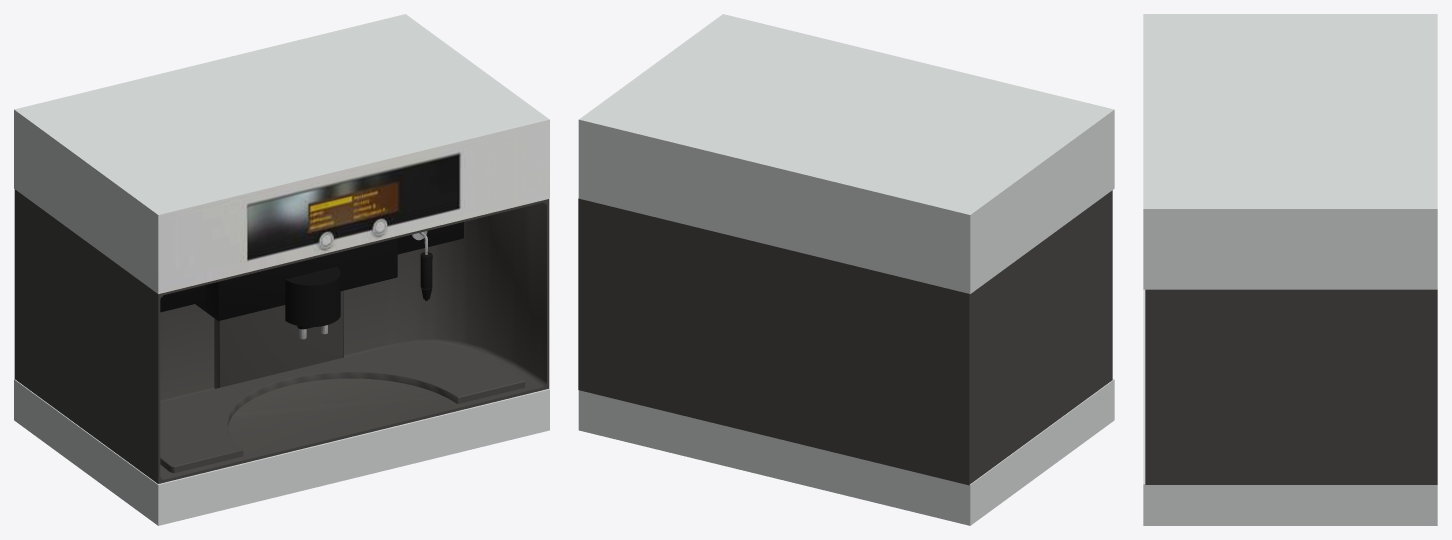
Rendered from Coffee machine.FBX.
The picture shows the model from 3 angles, left to right: view 1: azimuth 30°, elevation 25°; view 2: azimuth 150°, elevation 25°; view 3: azimuth 270°, elevation 25°; orthographic projection. The views are drawn at different scales.
Parts seen in each view (by area): view 1: coffee machine; view 2: coffee machine; view 3: coffee machine.
Part boxes in pixels (x1,y1,x2,y2): coffee machine: (14, 14, 549, 525); coffee machine: (578, 14, 1114, 525); coffee machine: (1143, 14, 1437, 525).
Size of the model in its own units: 71.74 by 54.38 by 45.78.
1 material, 1 textured.
